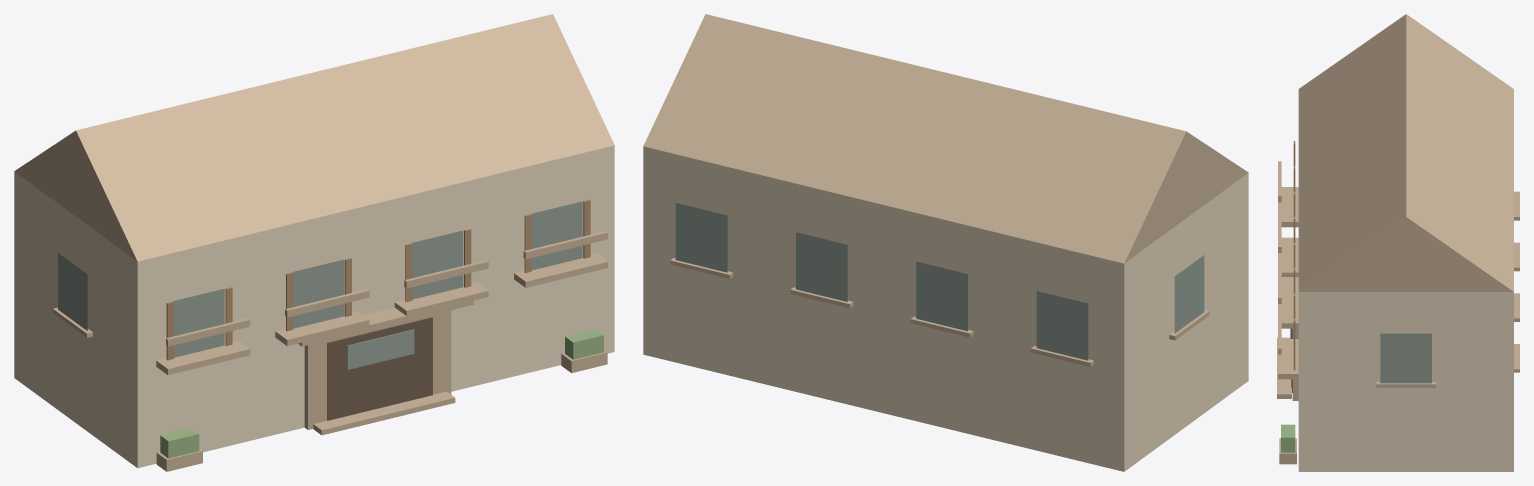
File: residential_2x1_a.glb
The picture shows the model from 3 angles, left to right: view 1: azimuth 30°, elevation 25°; view 2: azimuth 150°, elevation 25°; view 3: azimuth 270°, elevation 25°; orthographic projection. The views are drawn at different scales.
Visible parts, largest first — view 1: residential_2x1_a_0; view 2: residential_2x1_a_0; view 3: residential_2x1_a_0.
Boxes of the visible parts, bbox=[...] form: residential_2x1_a_0: bbox=[14, 14, 614, 471]; residential_2x1_a_0: bbox=[643, 14, 1248, 471]; residential_2x1_a_0: bbox=[1277, 14, 1519, 471].
Bounding box in the file's own units: 14.86 × 8.5 × 7.33.
